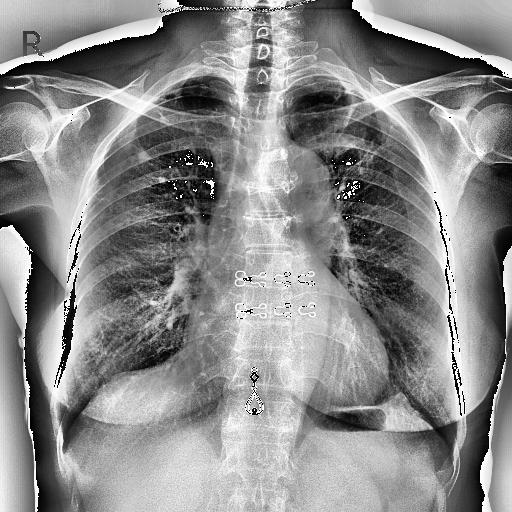0- Aortic enlargement: (261, 144, 336, 232), (254, 142, 332, 214), (273, 146, 332, 219)
11- Pleural thickening: (157, 74, 224, 97), (374, 391, 421, 411), (382, 379, 410, 408)
13- Pulmonary fibrosis: (335, 126, 393, 199), (344, 126, 396, 176), (123, 138, 152, 164), (90, 182, 112, 202), (155, 108, 172, 125), (332, 87, 345, 104), (330, 93, 344, 106)
2- Calcification: (139, 151, 149, 162)
3- Cardiomegaly: (180, 308, 389, 401), (189, 310, 390, 400)
8- Nodule-Mass: (137, 150, 149, 160), (157, 176, 165, 182)
9- Other lesion: (89, 370, 141, 398), (374, 391, 421, 411)
